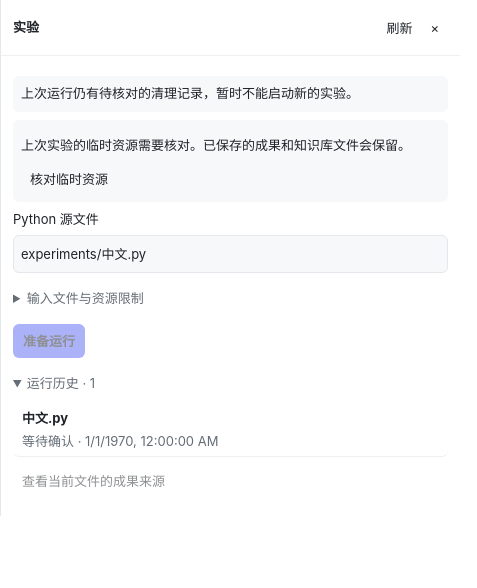
Test: experiment user workflow › retains pending cleanup on native cancellation and requires a fresh review
Step 1. Click the button "核对临时资源" → (69, 178), box [21, 163, 117, 194]
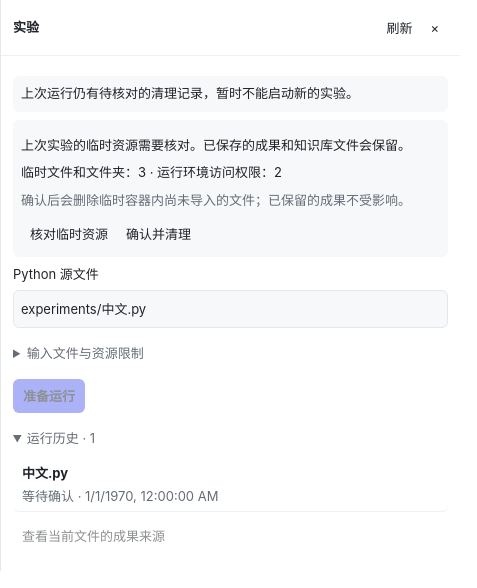
Step 2. Click the button "确认并清理" → (158, 234), box [117, 218, 200, 249]
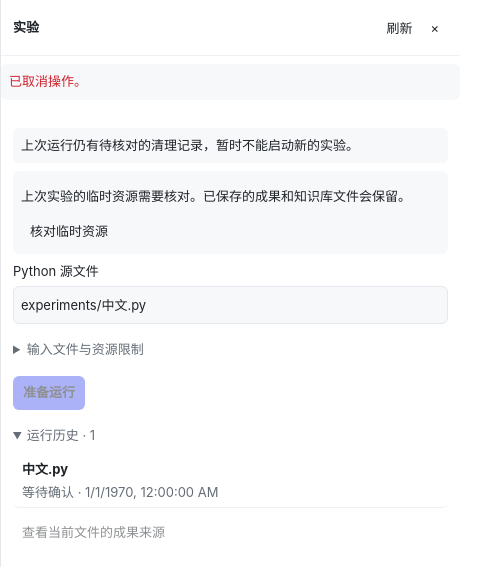
Expected: the element with class "cleanup-review" is shown, [13, 171, 448, 254]
Now the message "已取消操作。" is shown, box [1, 64, 460, 100]
